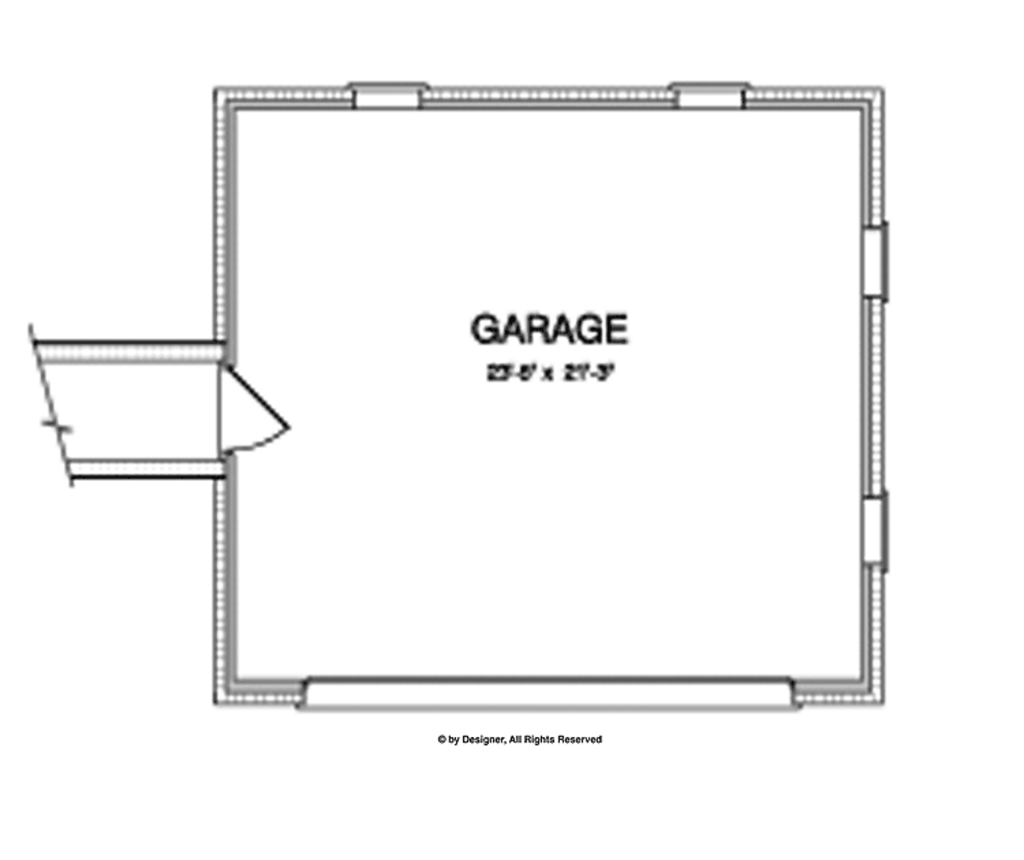door: (207, 366, 294, 458)
window: (340, 64, 428, 119), (667, 73, 756, 116), (858, 487, 894, 581), (857, 223, 898, 303)
